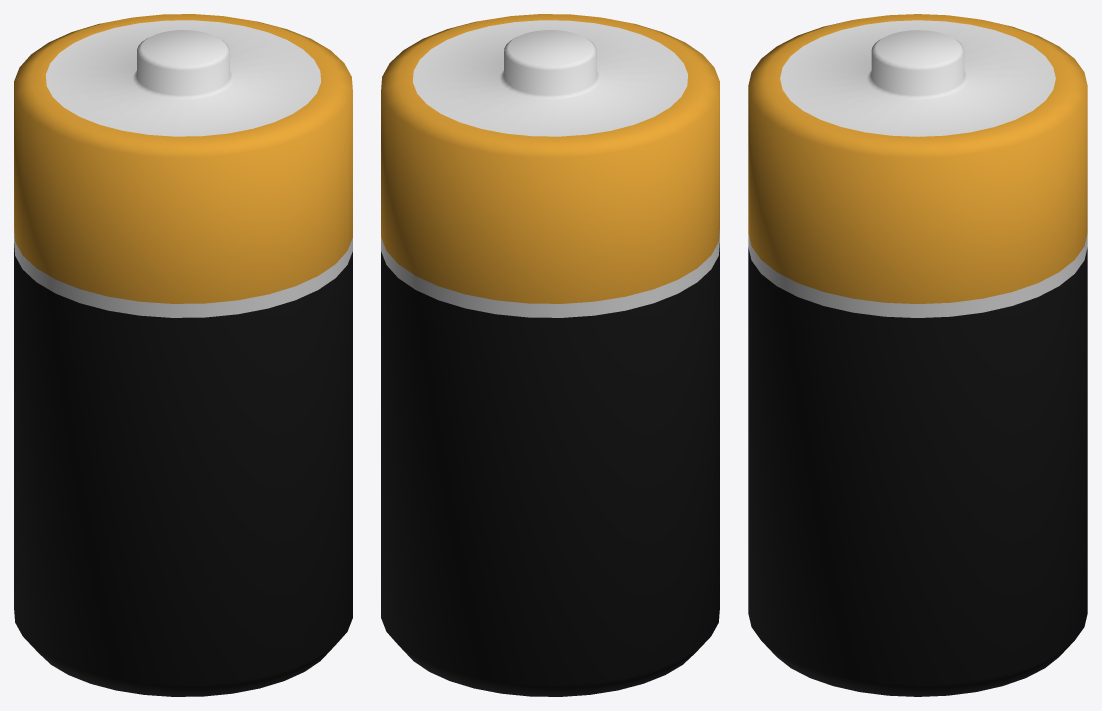
File: Battery.fbx
The picture shows the model from 3 angles, left to right: view 1: azimuth 30°, elevation 25°; view 2: azimuth 150°, elevation 25°; view 3: azimuth 270°, elevation 25°; orthographic projection.
Visible parts, largest first — view 1: Cylinder; view 2: Cylinder; view 3: Cylinder.
Part boxes in pixels (x1,y1,x2,y2): Cylinder: (14,14,352,696); Cylinder: (381,14,719,696); Cylinder: (748,14,1087,696).
Size of the model in its own units: 100 by 190 by 100.
